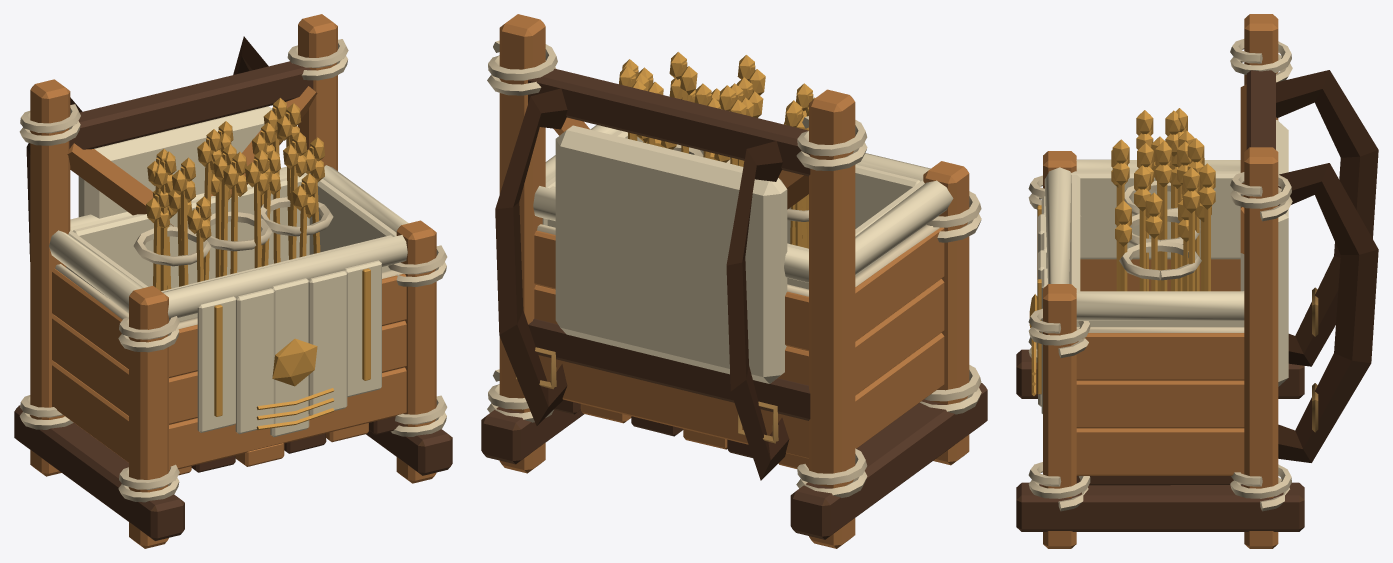
Rendered from prop_trade_pack_wheat_a.glb.
The picture shows the model from 3 angles, left to right: view 1: azimuth 30°, elevation 25°; view 2: azimuth 150°, elevation 25°; view 3: azimuth 270°, elevation 25°; orthographic projection. The views are drawn at different scales.
Visible parts, largest first — view 1: prop_trade_pack_wheat_a_LOD0; view 2: prop_trade_pack_wheat_a_LOD0; view 3: prop_trade_pack_wheat_a_LOD0.
Part boxes in pixels (x1,y1,x2,y2): prop_trade_pack_wheat_a_LOD0: (14, 14, 452, 548); prop_trade_pack_wheat_a_LOD0: (481, 14, 987, 548); prop_trade_pack_wheat_a_LOD0: (1016, 14, 1378, 548).
Size of what is drawn, in the model's own units: 0.8384 by 0.96 by 0.8041.
